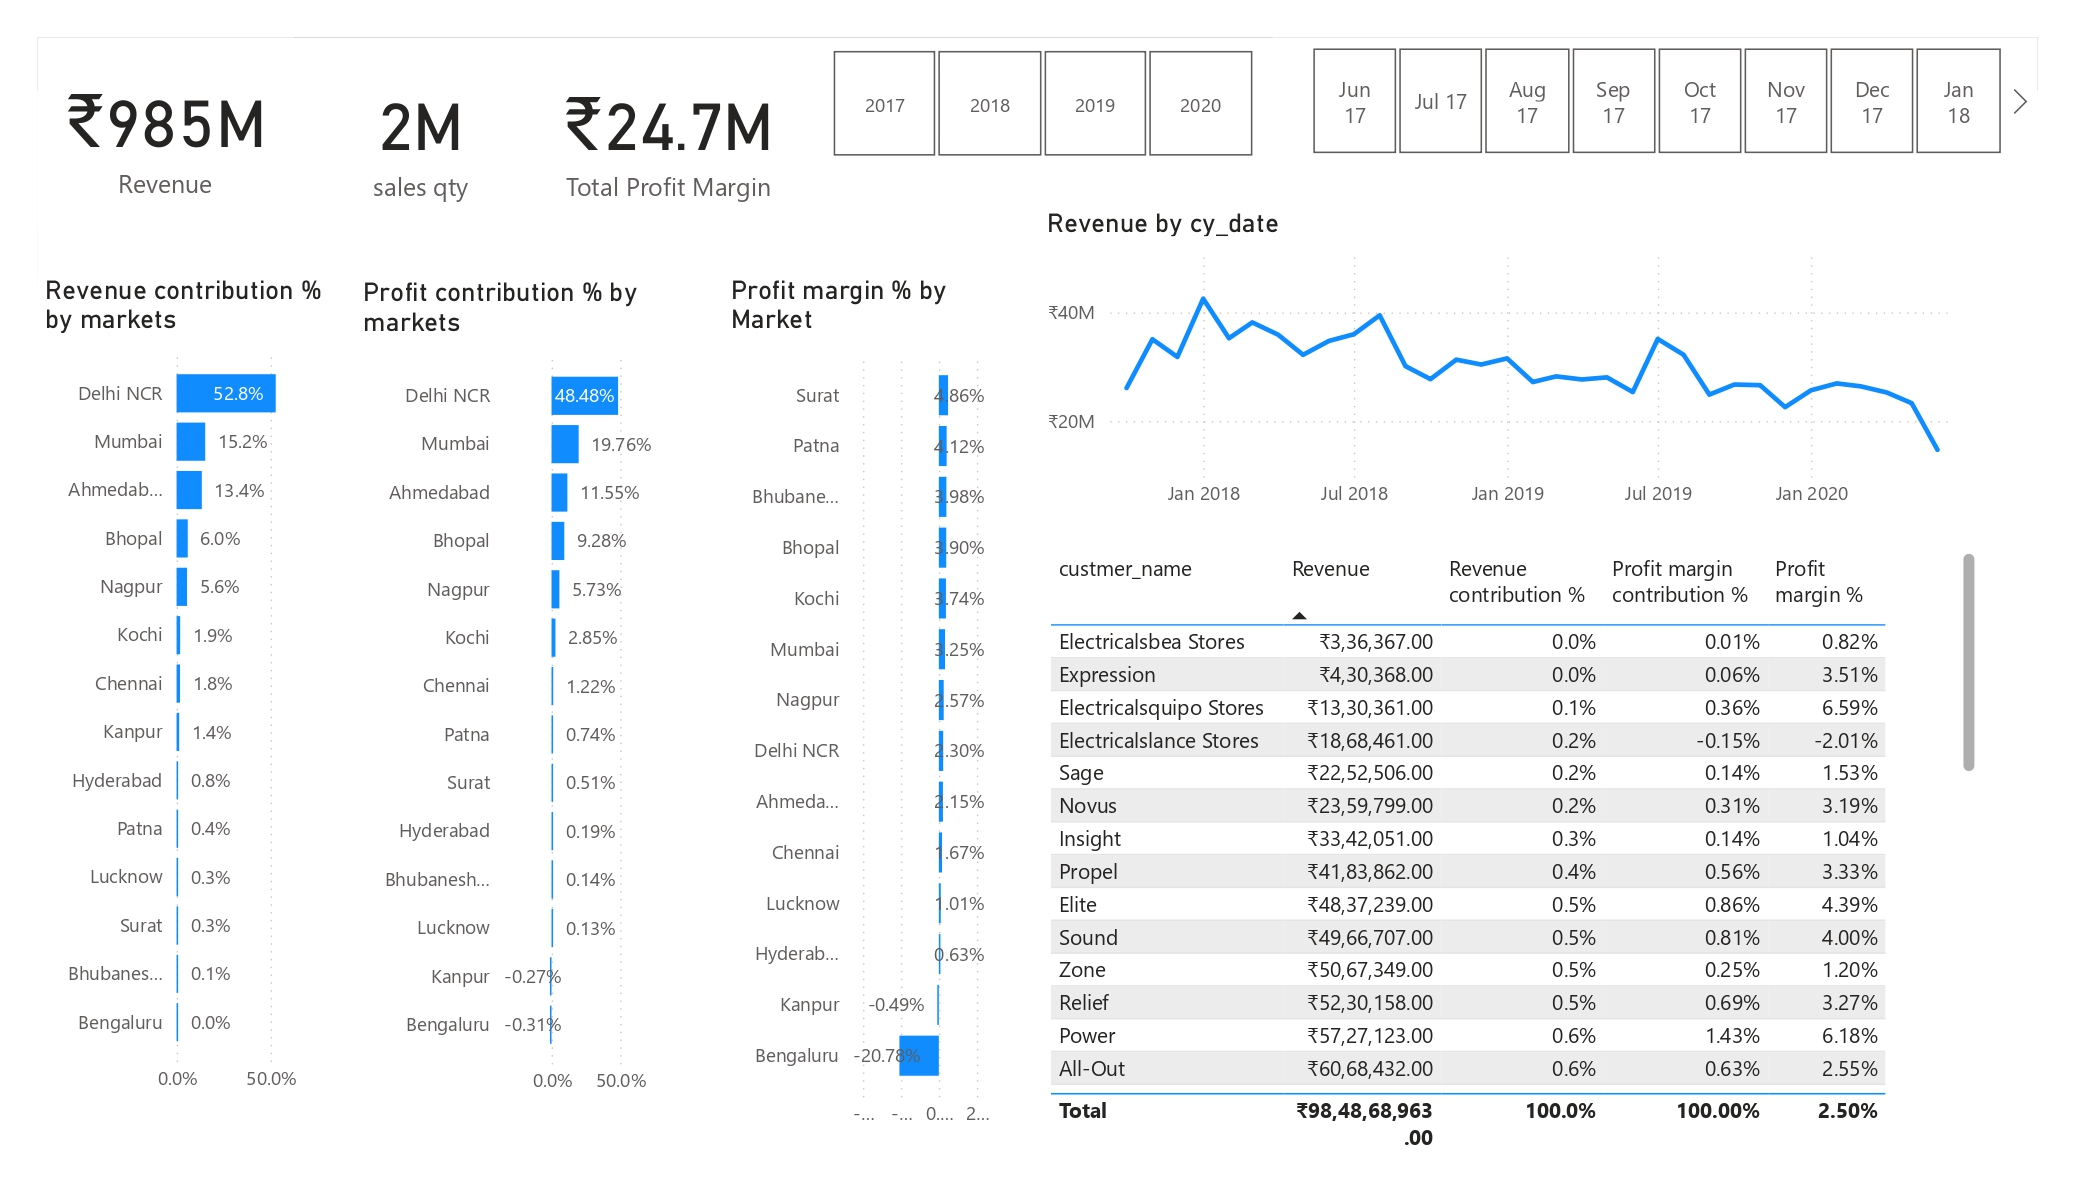

The dashboard page shown, as its layout file describes it:
{"tool":"powerbi","page":{"name":"Initial Dashboard","canvas":[1280,720],"ordinal":0},"visuals":[{"type":"card","fields":{"Values":["Base Measures.Revenue"]},"box":[0,0,163.5,123.1],"z":0},{"type":"card","fields":{"Values":["Base Measures.sales qty"]},"box":[176.5,1.6,137.6,123.1],"z":1000},{"type":"barChart","title":"Profit margin % by Market","fields":{"Category":["sales markets.markets_name"],"Y":["Base Measures.Profit margin %"]},"box":[438.8,150.6,187.8,555.4],"z":2000},{"type":"barChart","title":"Profit contribution % by markets","fields":{"Category":["sales markets.markets_name"],"Y":["Base Measures.Profit margin contribution %"]},"box":[204,152.2,220.2,532.7],"z":3000},{"type":"tableEx","title":"Top 5 Customers","fields":{"Values":["sales customers.custmer_name","Base Measures.Revenue","Base Measures.Revenue contribution %","Base Measures.Profit margin contribution %","Base Measures.Profit margin %"]},"box":[642.5,325,602.8,395],"z":4000},{"type":"slicer","fields":{"Values":["sales date.year"]},"box":[483.8,1.9,317.5,81.3],"z":5000},{"type":"slicer","fields":{"Values":["sales date.cy_date"]},"box":[789.9,0,489.5,81.3],"z":6000},{"type":"lineChart","fields":{"Category":["sales date.cy_date"],"Y":["Base Measures.Revenue"]},"box":[641.2,108.5,604,202.4],"z":7000},{"type":"card","fields":{"Values":["Base Measures.Total Profit Margin"]},"box":[322.2,1.6,161.9,123.1],"z":8000},{"type":"barChart","title":"Revenue contribution % by markets","fields":{"Category":["sales markets.markets_name"],"Y":["Base Measures.Revenue contribution %"]},"box":[0,150.6,204,532.7],"z":9000}]}

Visuals, with their boxes in screenshot pixels (x1, y1, x2, y2):
card - Base Measures.Revenue: bbox(38, 38, 293, 230)
card - Base Measures.sales qty: bbox(313, 40, 528, 232)
"Profit margin % by Market" barChart: bbox(723, 273, 1017, 1141)
"Profit contribution % by markets" barChart: bbox(356, 275, 700, 1108)
"Top 5 Customers" tableEx: bbox(1041, 545, 1983, 1162)
slicer - sales date.year: bbox(793, 40, 1290, 168)
slicer - sales date.cy_date: bbox(1272, 38, 2037, 165)
lineChart - sales date.cy_date x Base Measures.Revenue: bbox(1039, 207, 1983, 523)
card - Base Measures.Total Profit Margin: bbox(541, 40, 794, 232)
"Revenue contribution % by markets" barChart: bbox(38, 273, 356, 1105)
